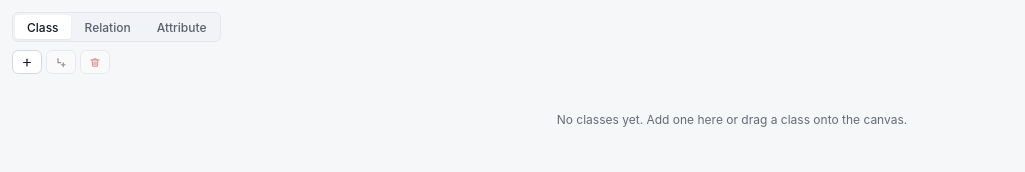
Test: telling the two delete buttons apart › names the toolbar delete for the selection, on all three tabs
Check: the button named "Delete selected class" is shown, box x1=80 y1=50 x2=110 y2=74
Click the tab "Relation".
click(108, 27)  # box x1=73 y1=15 x2=143 y2=39
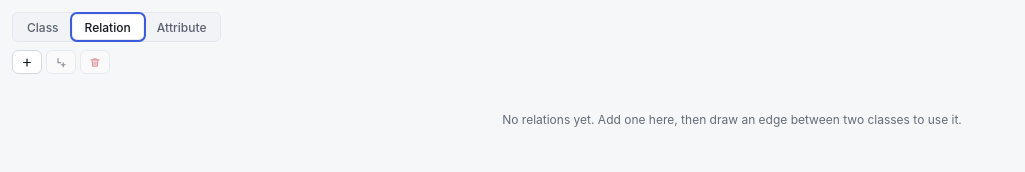
Check: the button named "Delete selected relation" is shown, box x1=80 y1=50 x2=110 y2=74
Click the tab "Attribute".
click(182, 27)  # box x1=145 y1=15 x2=218 y2=39
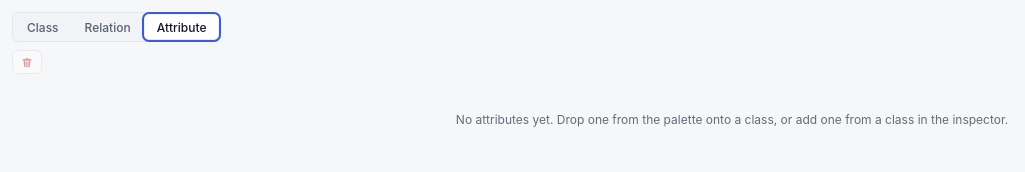
Check: the button named "Delete selected attribute" is shown, box x1=12 y1=50 x2=42 y2=74
